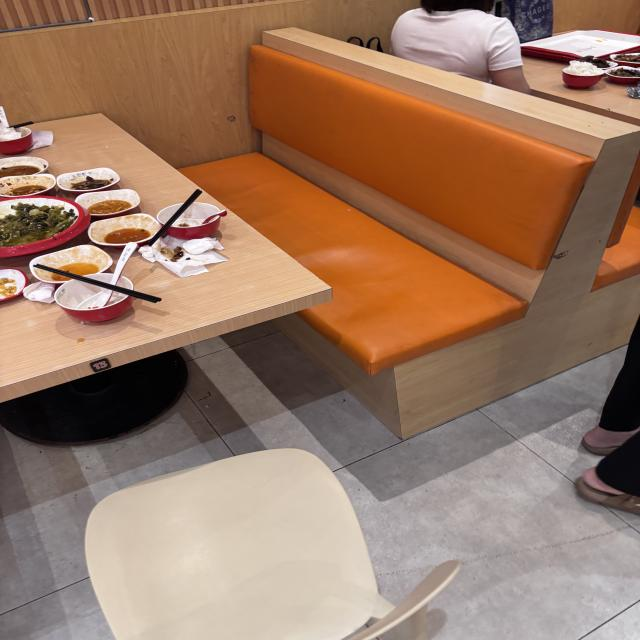Chair: (149, 18, 640, 450)
